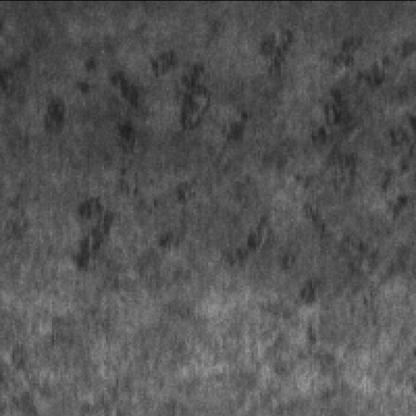rolled-in_scale: (135, 27, 412, 250), (35, 33, 208, 300), (214, 235, 391, 397)
